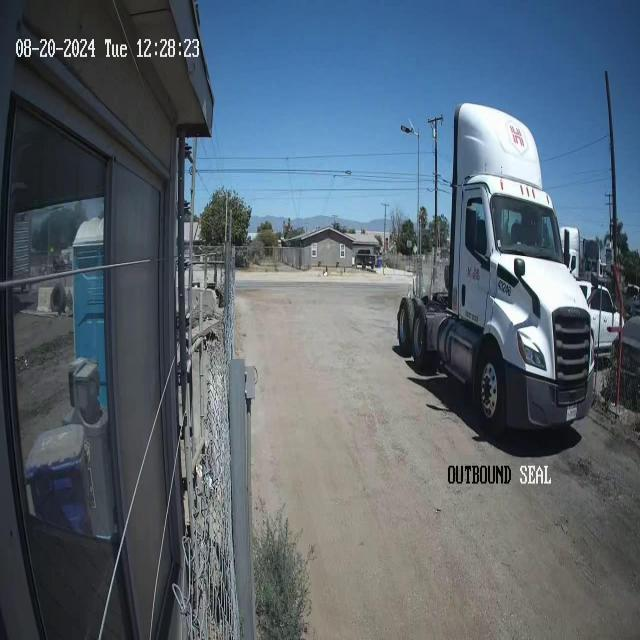BOBTAIL: (396, 100, 596, 438)
